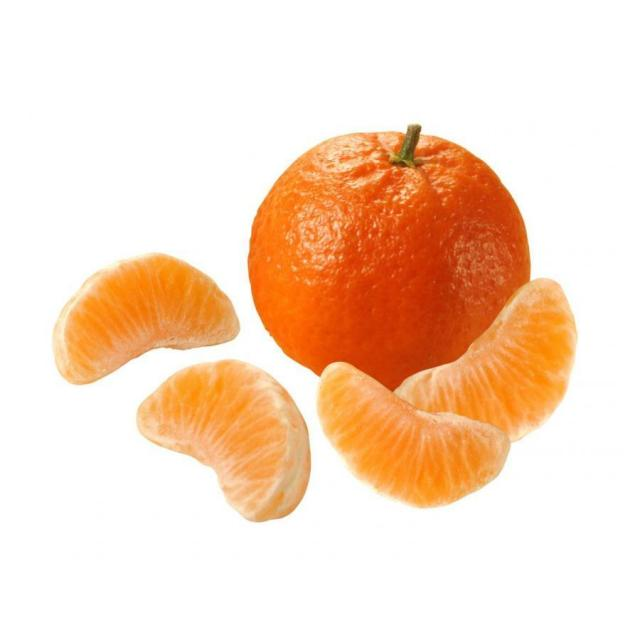10_tangerine: (241, 125, 558, 395), (380, 268, 578, 452), (134, 358, 316, 516), (46, 243, 245, 387), (315, 364, 519, 504)
